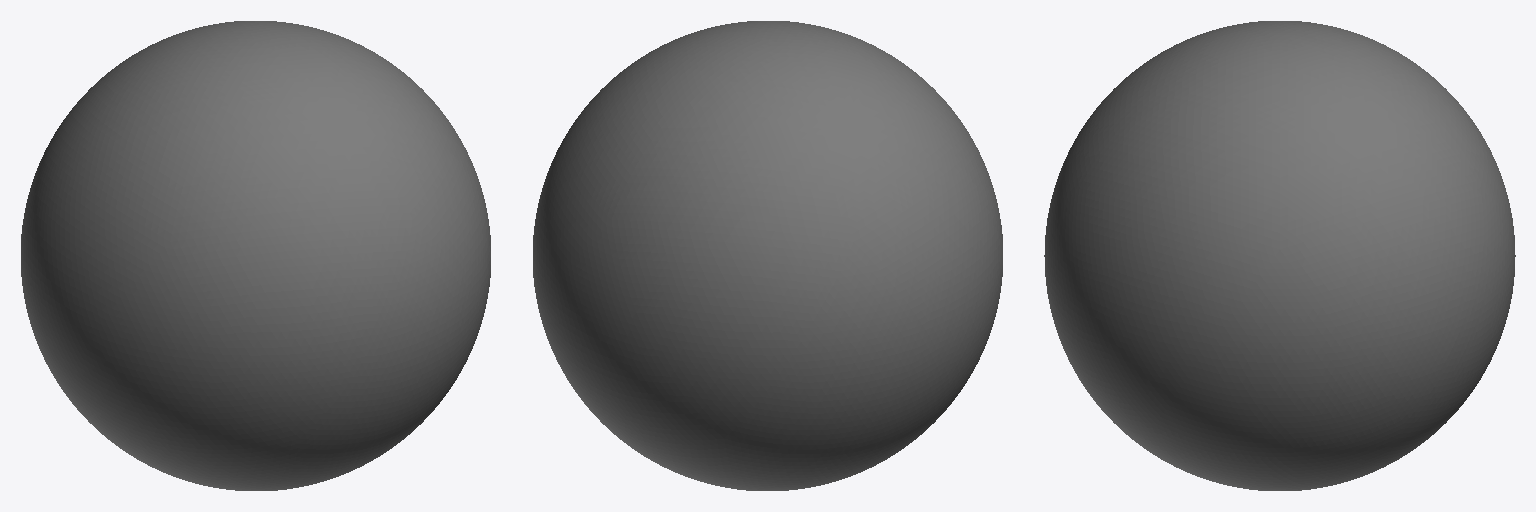
Rendered from isosphere6.obj.
The picture shows the model from 3 angles: view 1: azimuth 30°, elevation 25°; view 2: azimuth 150°, elevation 25°; view 3: azimuth 270°, elevation 25°; orthographic projection.
Parts seen in each view (by area): view 1: Icosphere; view 2: Icosphere; view 3: Icosphere.
Boxes of the visible parts, x1,y1,x2,y2 form: Icosphere: [21, 21, 490, 490]; Icosphere: [533, 21, 1002, 490]; Icosphere: [1044, 21, 1515, 490].
Bounding box in the file's own units: 2 × 2 × 2.